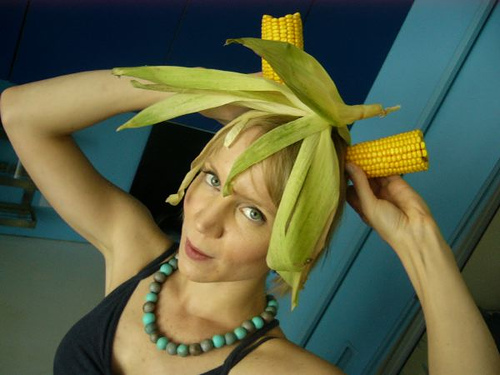corn: (341, 129, 429, 179), (261, 12, 301, 86)
